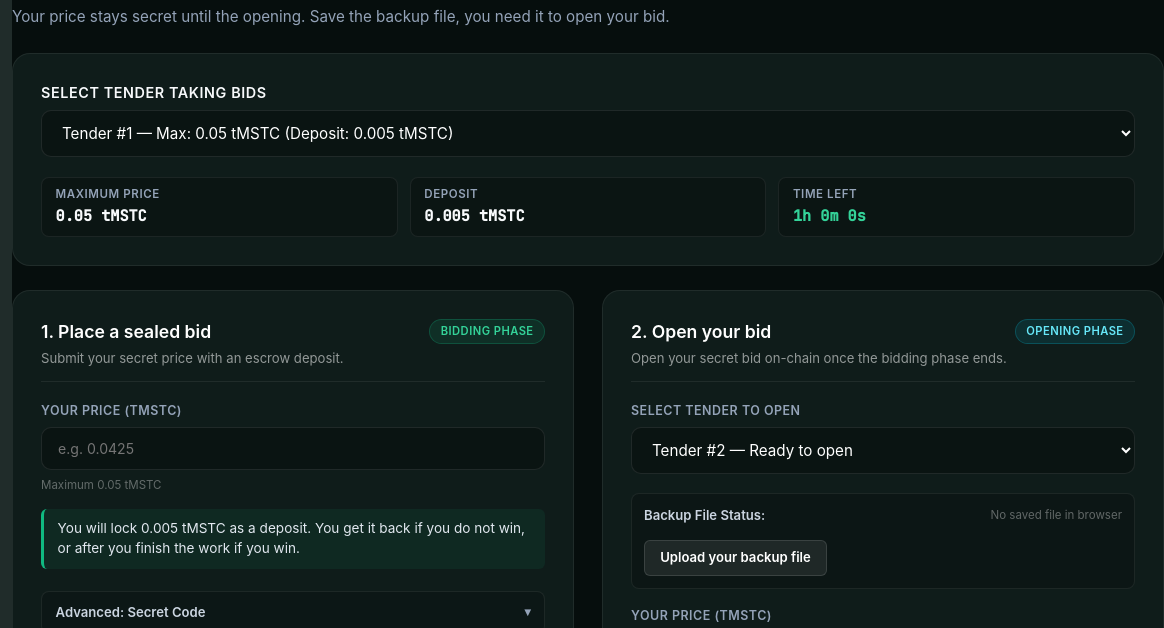
Test case: BidderTab Component Tests › handles commit submission and backup file creation
The width and height of the screenshot is (1164, 628).
Step 1. Type "0.04" into the number field with placeholder "e.g. 0.0425" → (293, 449), box [41,428,545,470]
(page scrolled)
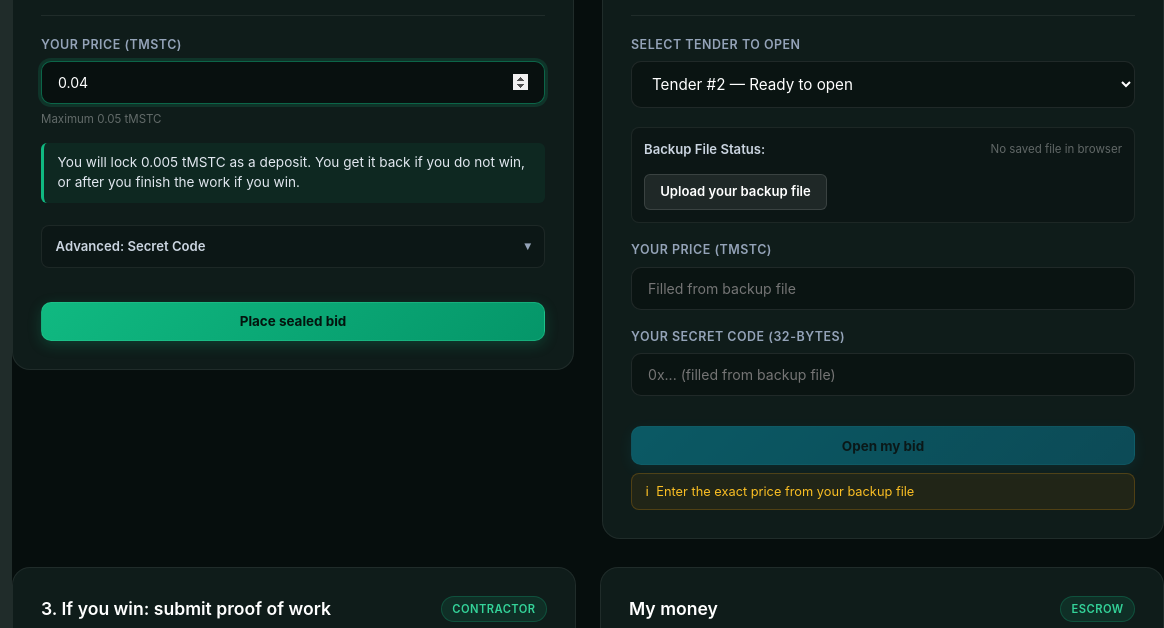
Step 2. Click the button "Place sealed bid" → (293, 321), box [41,302,545,341]
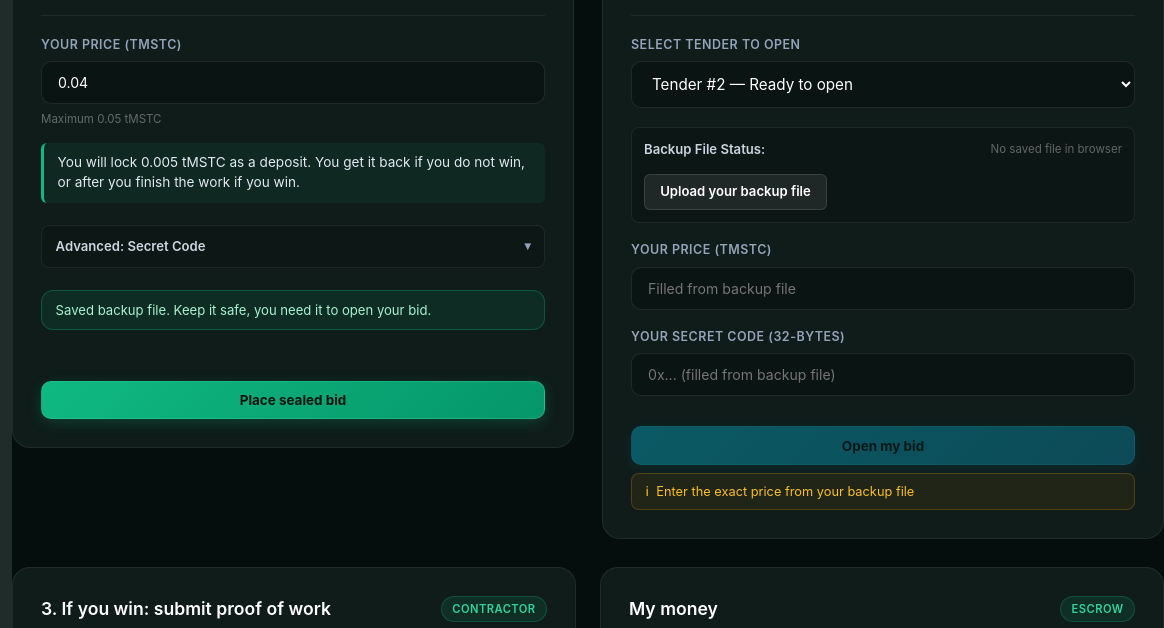
Result: the text "Saved backup file" is shown at [56,302,431,318]
